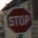stopsign: (6, 7, 33, 33)
